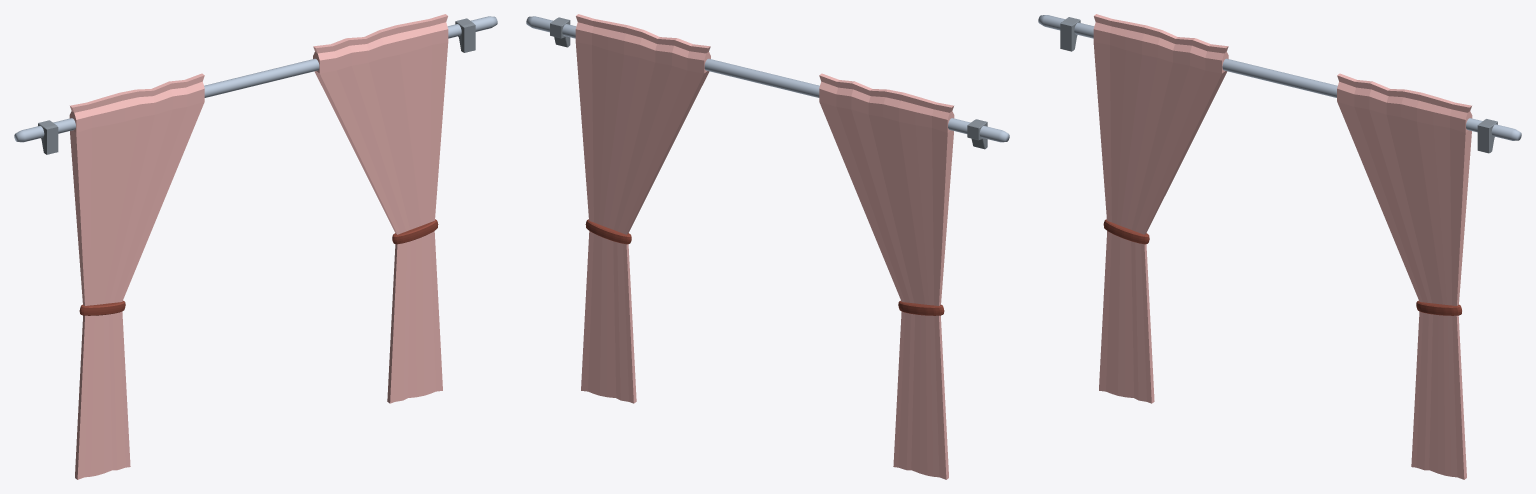
File: Curtains2.fbx
The picture shows the model from 3 angles, left to right: view 1: azimuth 30°, elevation 25°; view 2: azimuth 150°, elevation 25°; view 3: azimuth 330°, elevation 25°; orthographic projection.
Visible parts, largest first — view 1: CURTAINs, Stick; view 2: CURTAINs, Stick; view 3: CURTAINs, Stick.
Part boxes in pixels (bbox=[...]): CURTAINs: bbox=[69, 14, 448, 479]; Stick: bbox=[14, 16, 497, 154]; CURTAINs: bbox=[575, 14, 954, 479]; Stick: bbox=[526, 16, 1009, 149]; CURTAINs: bbox=[1093, 14, 1472, 479]; Stick: bbox=[1038, 15, 1521, 153].
Size of the model in its own units: 2621 by 85.67 by 1958.
